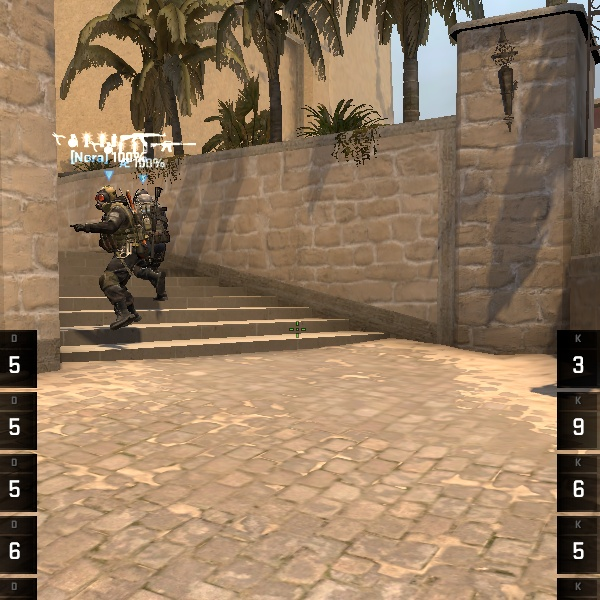ct_head: (91, 184, 124, 218)
